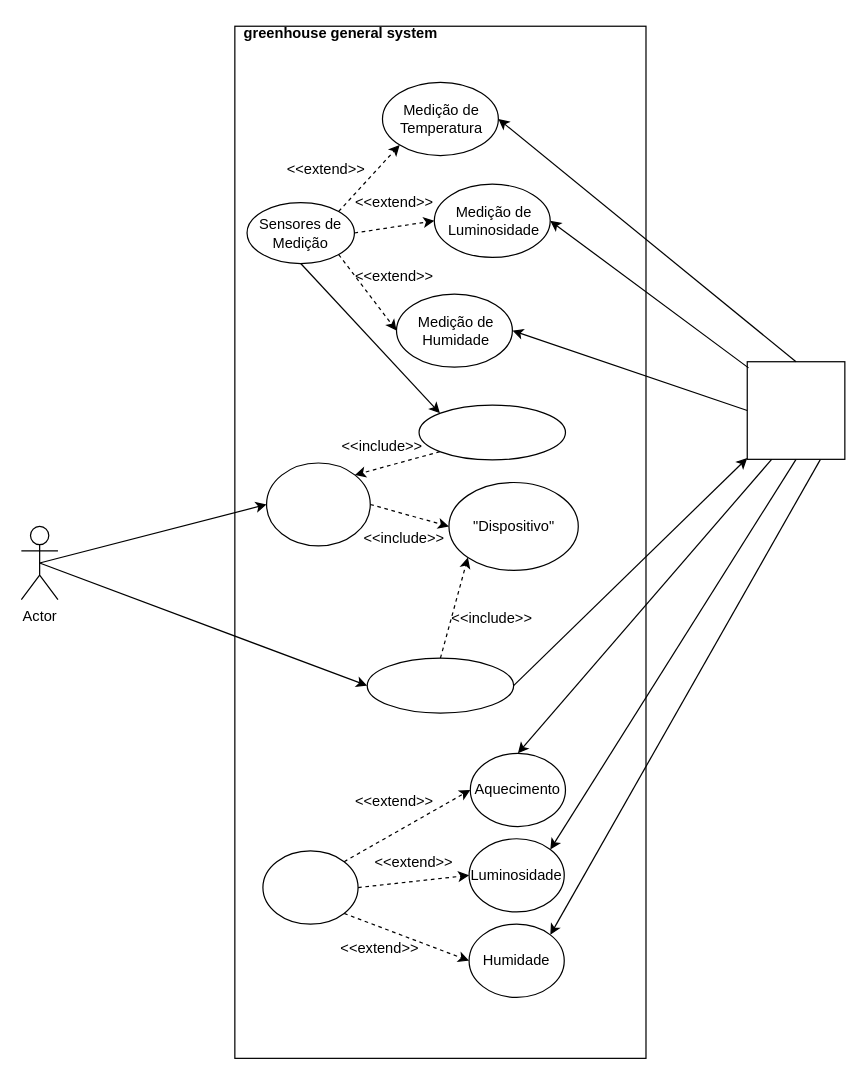
Some shapes in this 866 by 1080 pixel diagram are drawn without their labels. The centre of each missing label's shape, as x and y in pixels:
"Atuadores" belongs at pixel 310 887.
"Display" belongs at pixel 317 504.
"Especificação da planta" belongs at pixel 440 685.
"Processador" belongs at pixel 795 410.
"Visualização dos dados da estufa" belongs at pixel 491 432.
